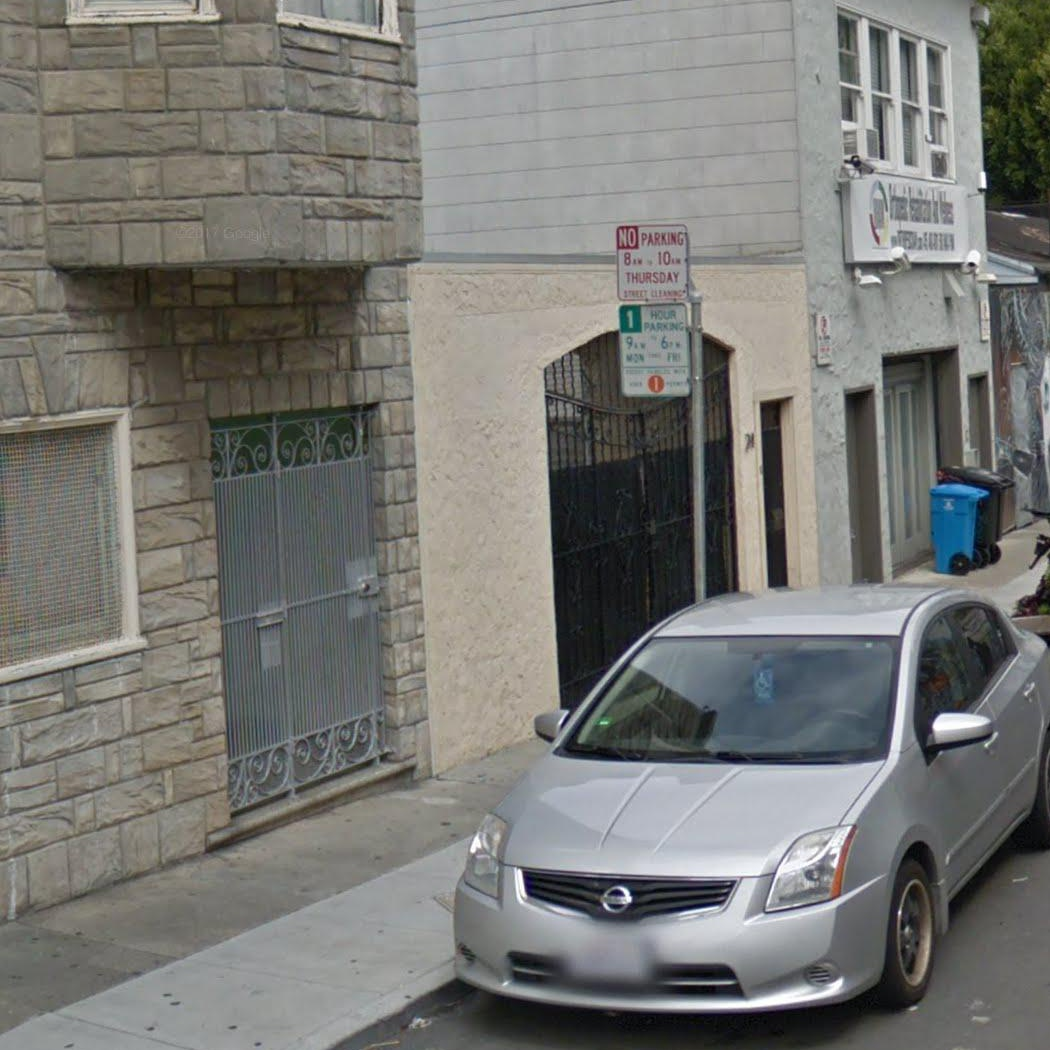1 Hour Parking: (618, 302, 692, 398)
No Parking: (615, 222, 690, 302)
